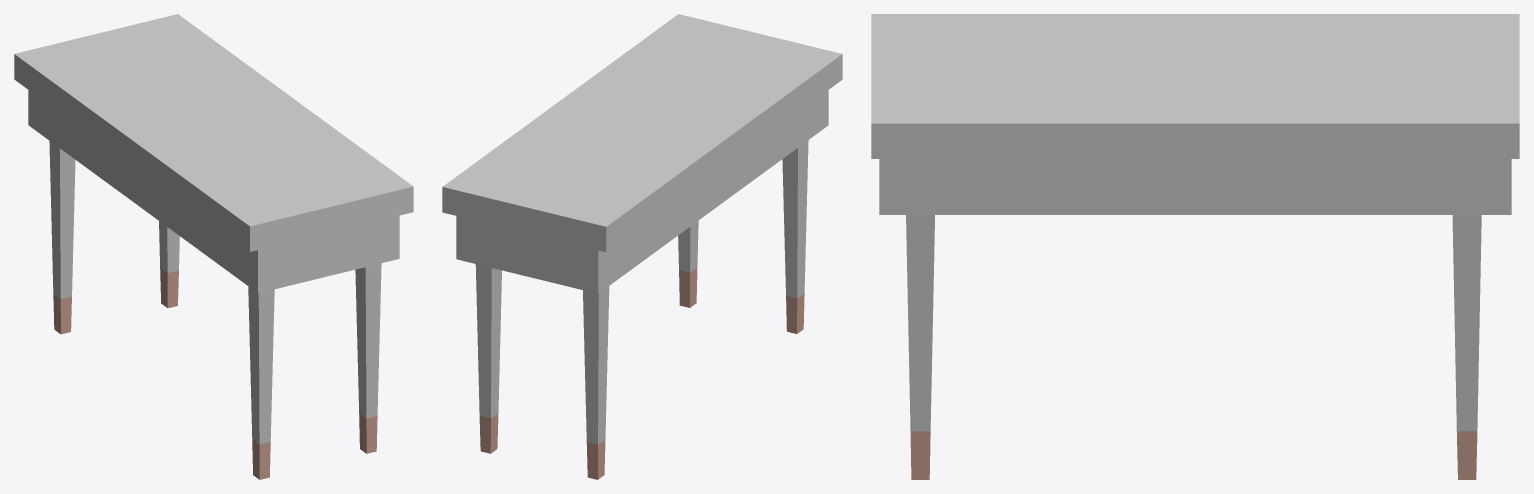
The model's file is PianoBench.fbx.
3 renders of one model, left to right at view 1: azimuth 30°, elevation 25°; view 2: azimuth 150°, elevation 25°; view 3: azimuth 270°, elevation 25°, orthographic. The views are drawn at different scales.
Visible parts, largest first — view 1: Piano_Grand.001; view 2: Piano_Grand.001; view 3: Piano_Grand.001.
Boxes of the visible parts, left/top/right/bottom form: Piano_Grand.001: left=14, top=14, right=413, bottom=479; Piano_Grand.001: left=442, top=14, right=842, bottom=479; Piano_Grand.001: left=871, top=14, right=1519, bottom=479.
Bounding box in the file's own units: 78.28 × 123 × 195.
